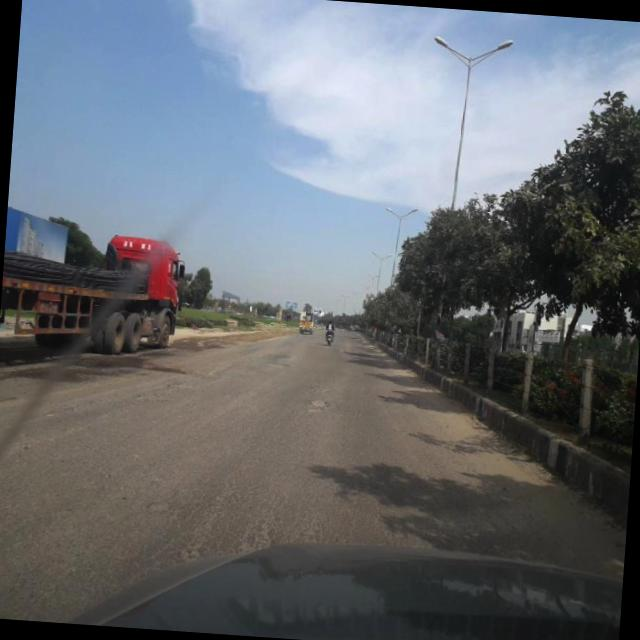crack: (0, 356, 342, 614)
pothole: (174, 472, 238, 564), (134, 377, 180, 416), (294, 387, 339, 426), (234, 516, 280, 554), (135, 494, 174, 520)
